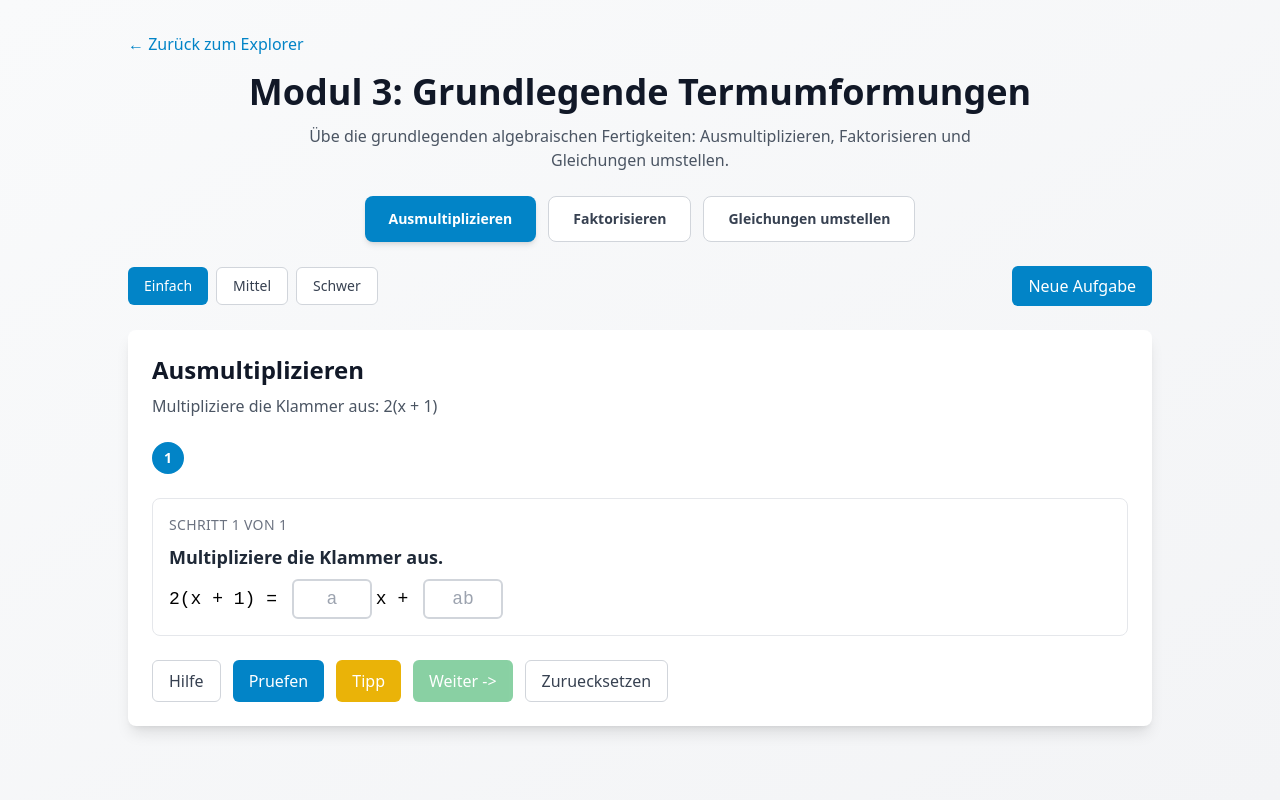
Test case: Module3Page › maintains separate scores for each category
Generate exercise in expanding category
Click the button with test id "new-exercise-button". click: (1082, 286)
box: top-left (1012, 266), bottom-right (1152, 306)
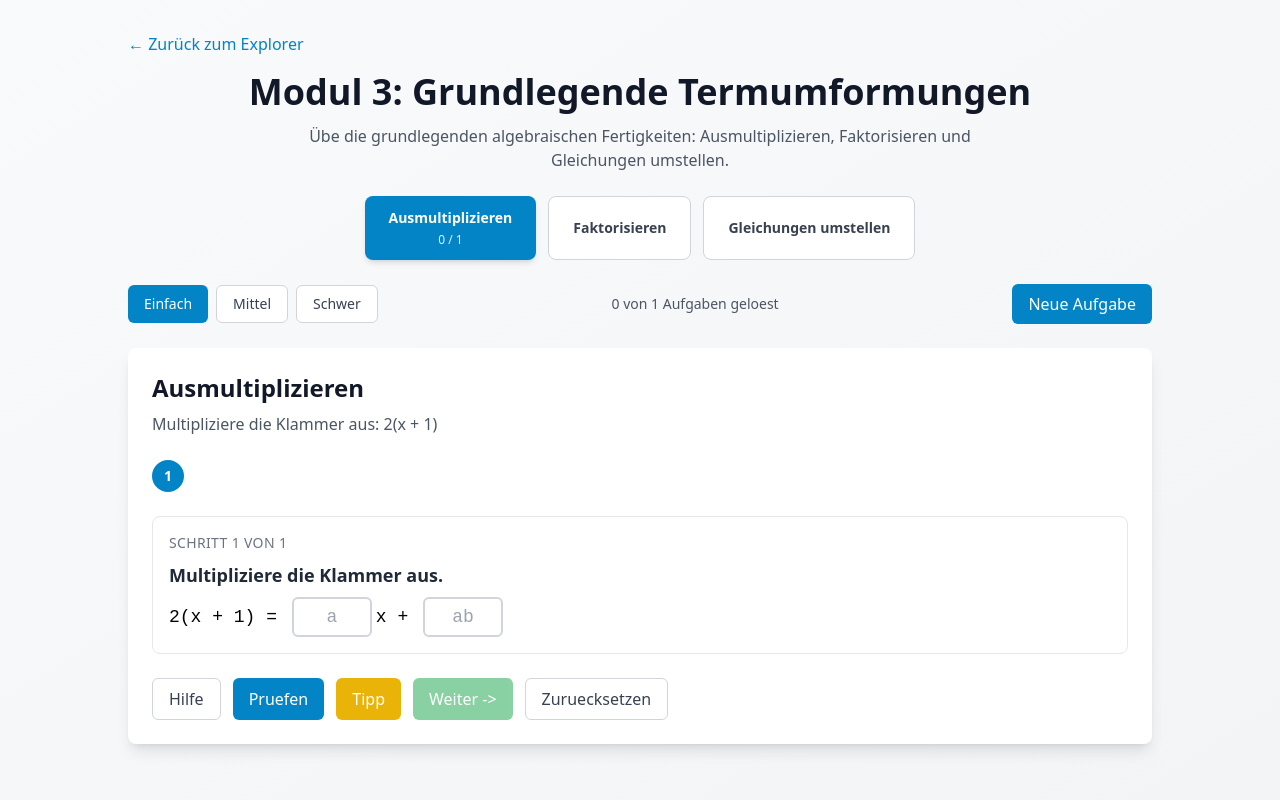
Expected: the tab with test id "category-expanding" shows "1", top-left (364, 196), bottom-right (536, 260)
Switch to factoring category
Click the tab with test id "category-factoring". click: (620, 228)
box: top-left (548, 196), bottom-right (692, 260)
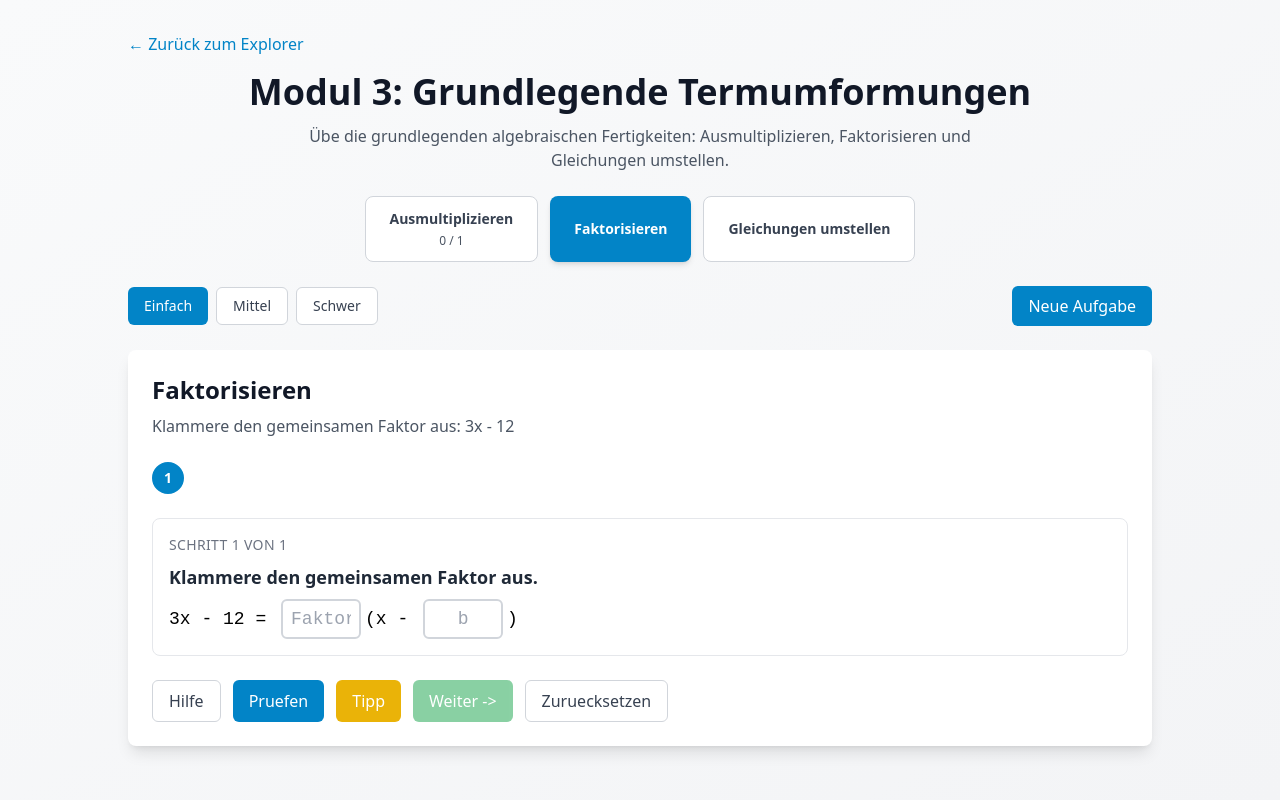
Expected: the element with test id "category-factoring" does not show "/"
Generate exercise in factoring category
Click the button with test id "new-exercise-button". click: (1082, 306)
box: top-left (1012, 286), bottom-right (1152, 326)
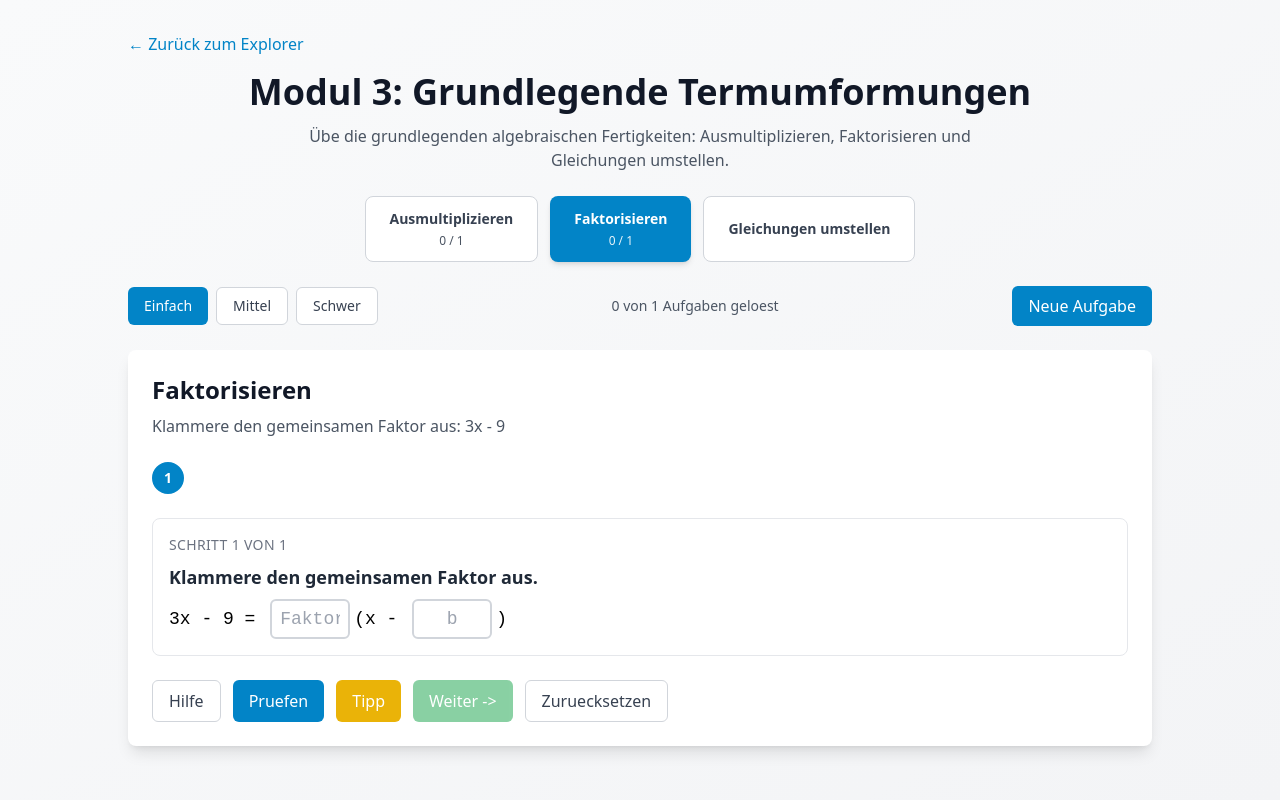
Expected: the tab with test id "category-factoring" shows "1", top-left (550, 196), bottom-right (692, 262)
